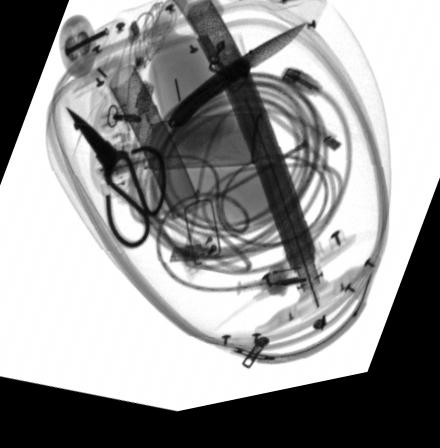Knife: (164, 33, 307, 135)
Scissors: (61, 108, 166, 253)
